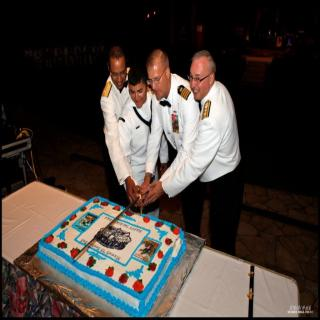Cake: (37, 196, 186, 316)
